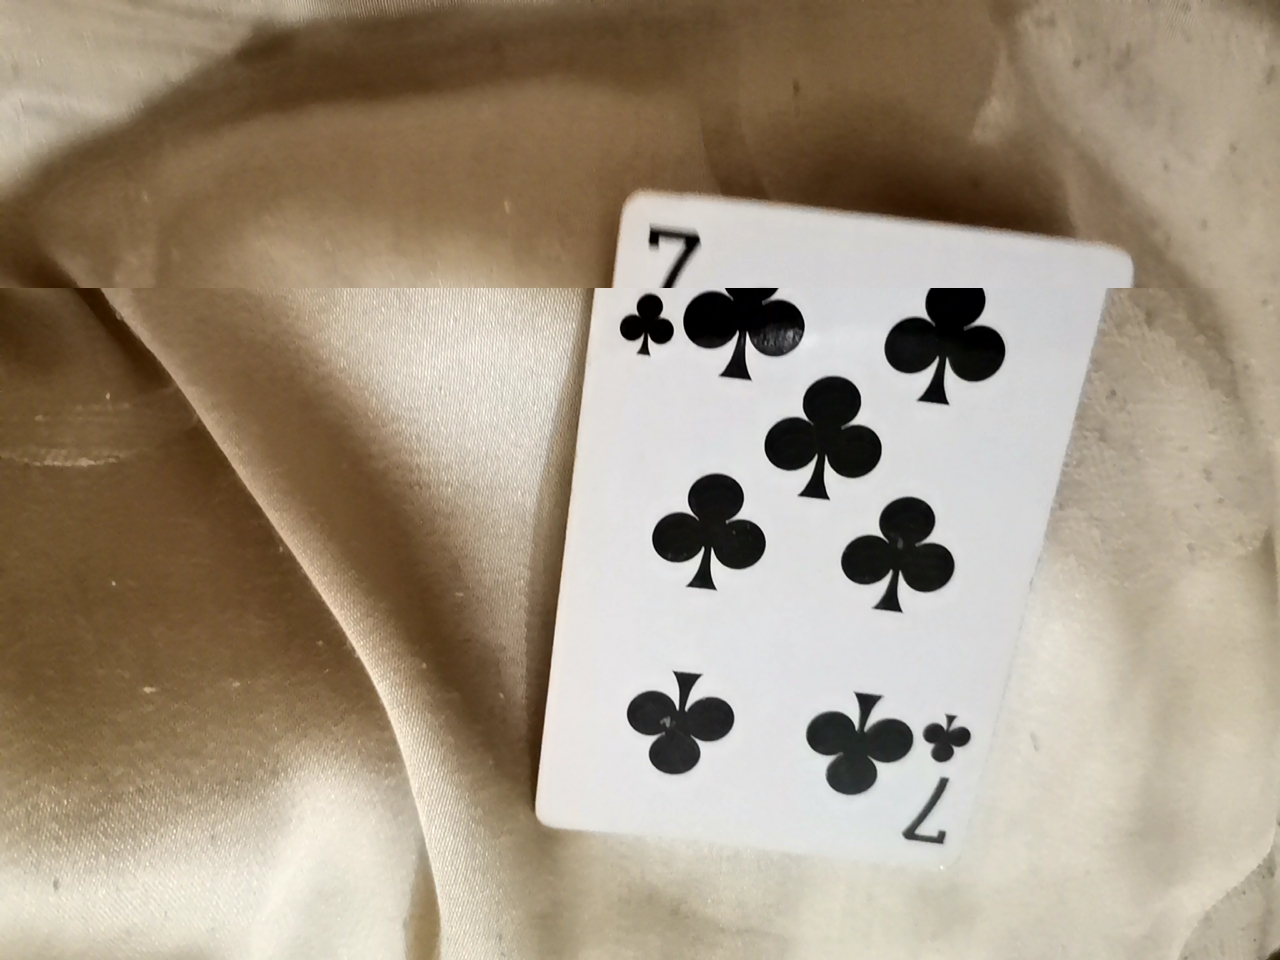mh 7: (531, 164, 1095, 917)
